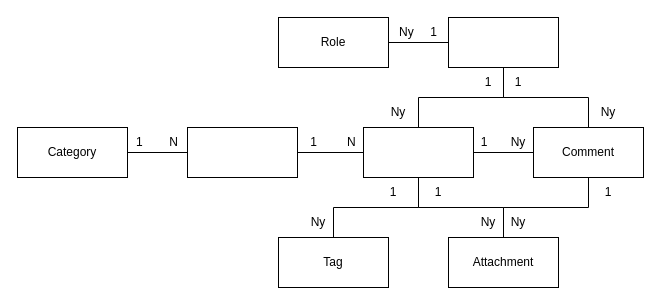
This 661x306 diagram has some shape labels left out. Each missing label, with the box of its shape:
Post: (362, 126, 474, 178)
Topic: (186, 126, 298, 178)
User: (448, 16, 558, 68)
